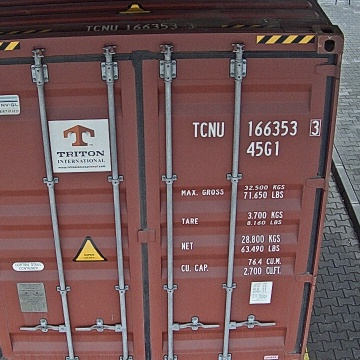serial_id: (193, 120, 319, 137)
